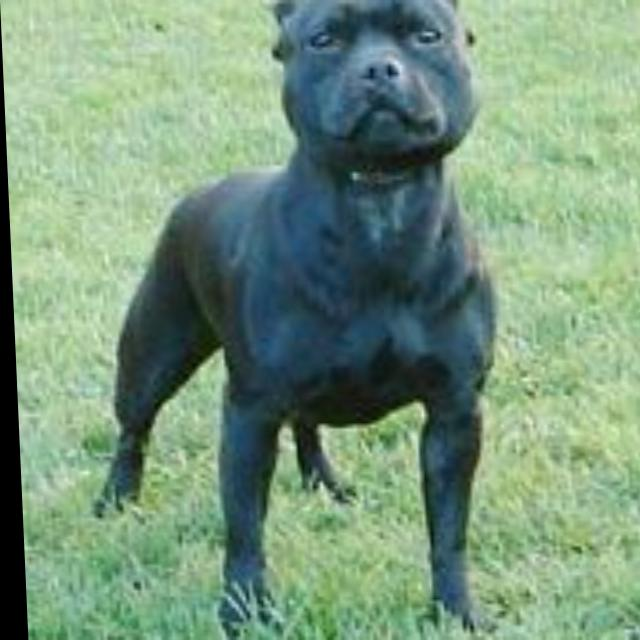staffford: (70, 1, 512, 640)
